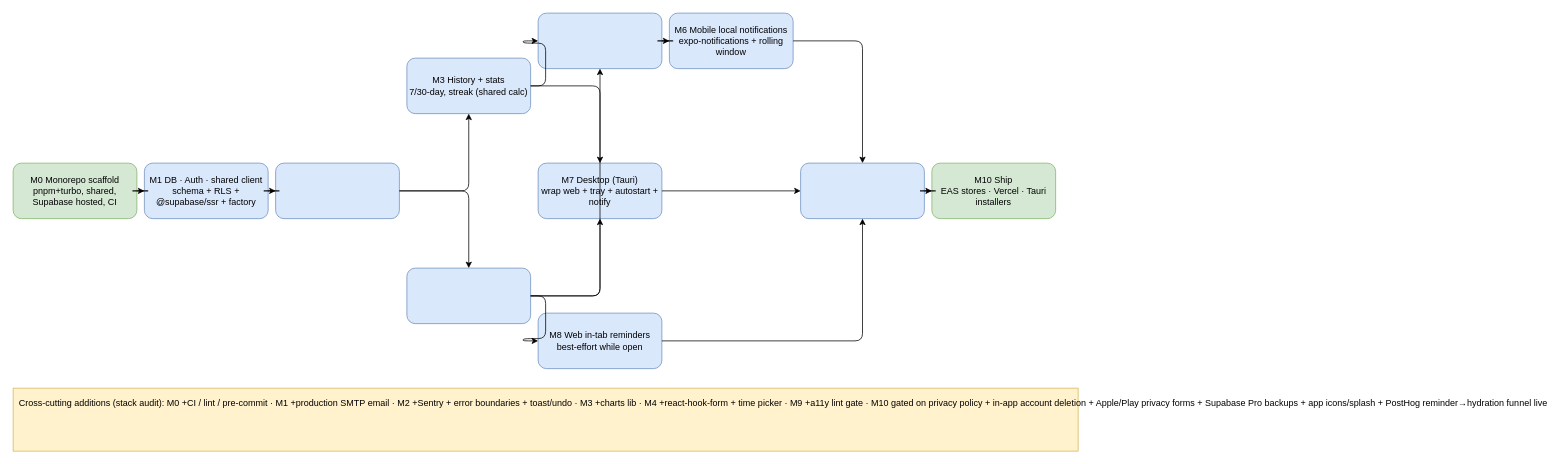
Image size: 1561x464. Some labels were removed from this diagram. The centre of each missing label's shape, as x and y in pixels:
"M2 Web logging + dashboard quick-add, validated, progress ring" goes at pixel 337 190.
"M4 Reminder settings + computor UI + shared computeFireTimes" goes at pixel 468 295.
"M5 Mobile core screens Expo parity on core screens" goes at pixel 599 40.
"M9 A11y + polish responsive, ml/oz, contrast" goes at pixel 862 190.
